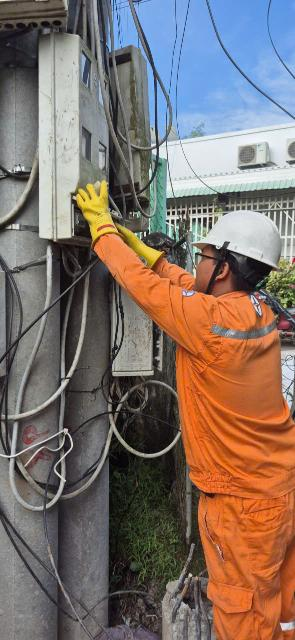gloves: (100, 218, 176, 279), (63, 180, 129, 246)
helmet: (193, 199, 284, 283)
